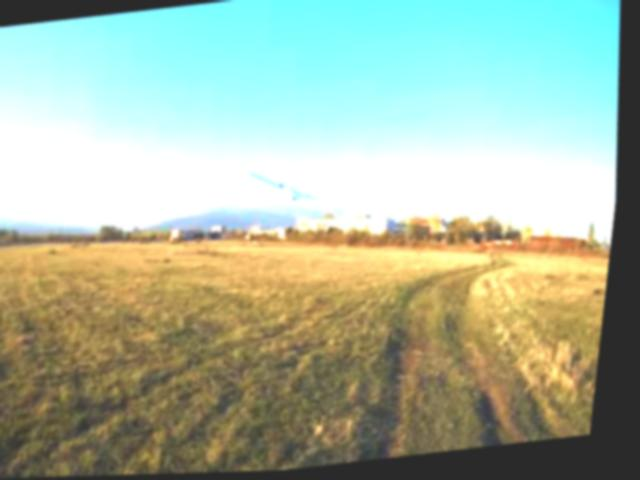uav: (242, 157, 336, 223)
